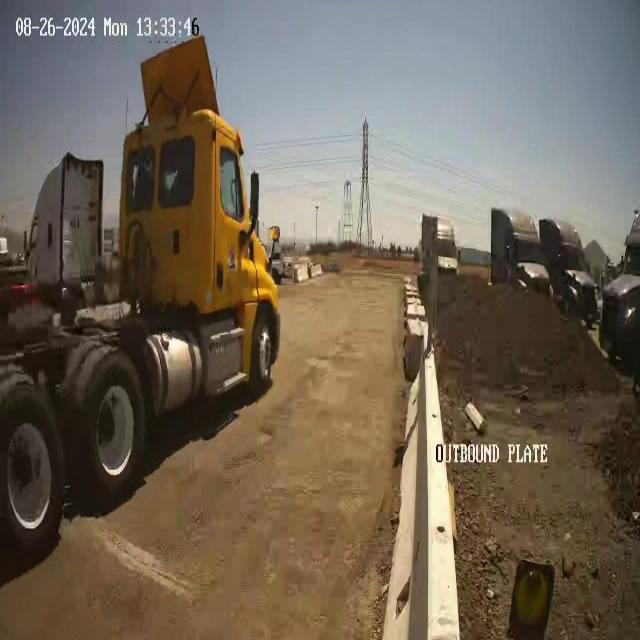TRUCK_IN: (1, 26, 281, 554)
